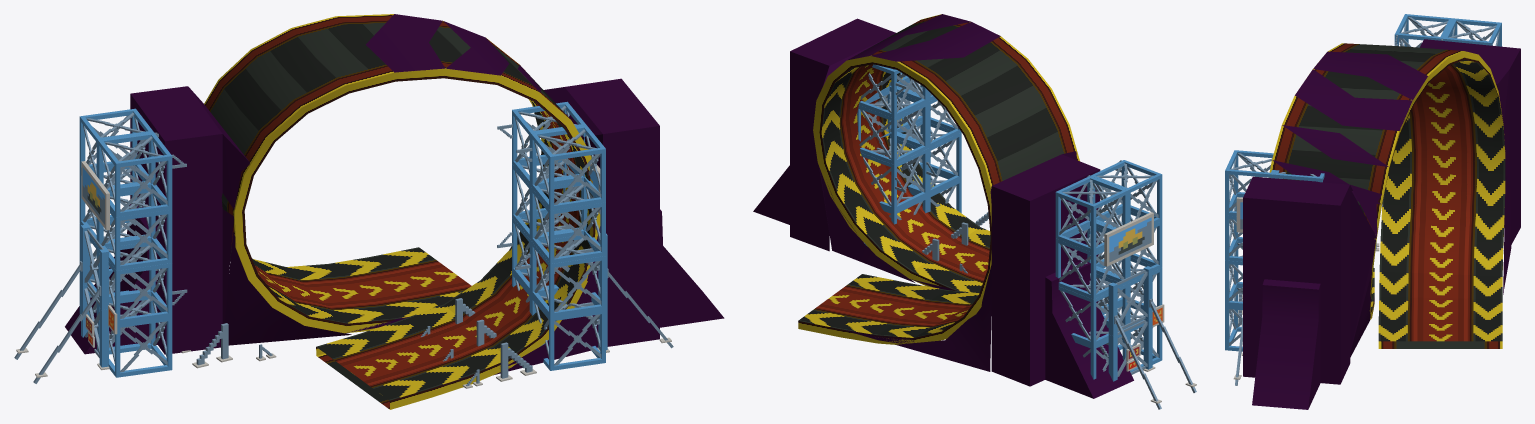
The model's file is Estakada_DeadCircle1_2_0001.FBX.
3 views of the same model, side by side, from view 1: azimuth 30°, elevation 25°; view 2: azimuth 150°, elevation 25°; view 3: azimuth 270°, elevation 25° (orthographic). The views are drawn at different scales.
Visible parts, largest first — view 1: Estacada_DeadCircle_1_002, Estacada_DeadCircle_1_002_Calider001, Estakada_DeadCircle_1_Vox_002; view 2: Estacada_DeadCircle_1_002, Estacada_DeadCircle_1_002_Calider001, Estakada_DeadCircle_1_Vox_002; view 3: Estacada_DeadCircle_1_002, Estacada_DeadCircle_1_002_Calider001, Estakada_DeadCircle_1_Vox_002.
Boxes of the visible parts, box(x1,y1,x2,y2) form: Estacada_DeadCircle_1_002: box(204, 14, 600, 409); Estacada_DeadCircle_1_002_Calider001: box(65, 14, 724, 386); Estakada_DeadCircle_1_Vox_002: box(14, 101, 673, 388); Estacada_DeadCircle_1_002: box(798, 14, 1079, 344); Estacada_DeadCircle_1_002_Calider001: box(753, 14, 1133, 398); Estakada_DeadCircle_1_Vox_002: box(857, 64, 1196, 409); Estacada_DeadCircle_1_002: box(1269, 43, 1505, 348); Estacada_DeadCircle_1_002_Calider001: box(1243, 39, 1520, 409); Estakada_DeadCircle_1_Vox_002: box(1225, 14, 1501, 385).
Size of the model in its own units: 4.61 by 2.39 by 2.18.
